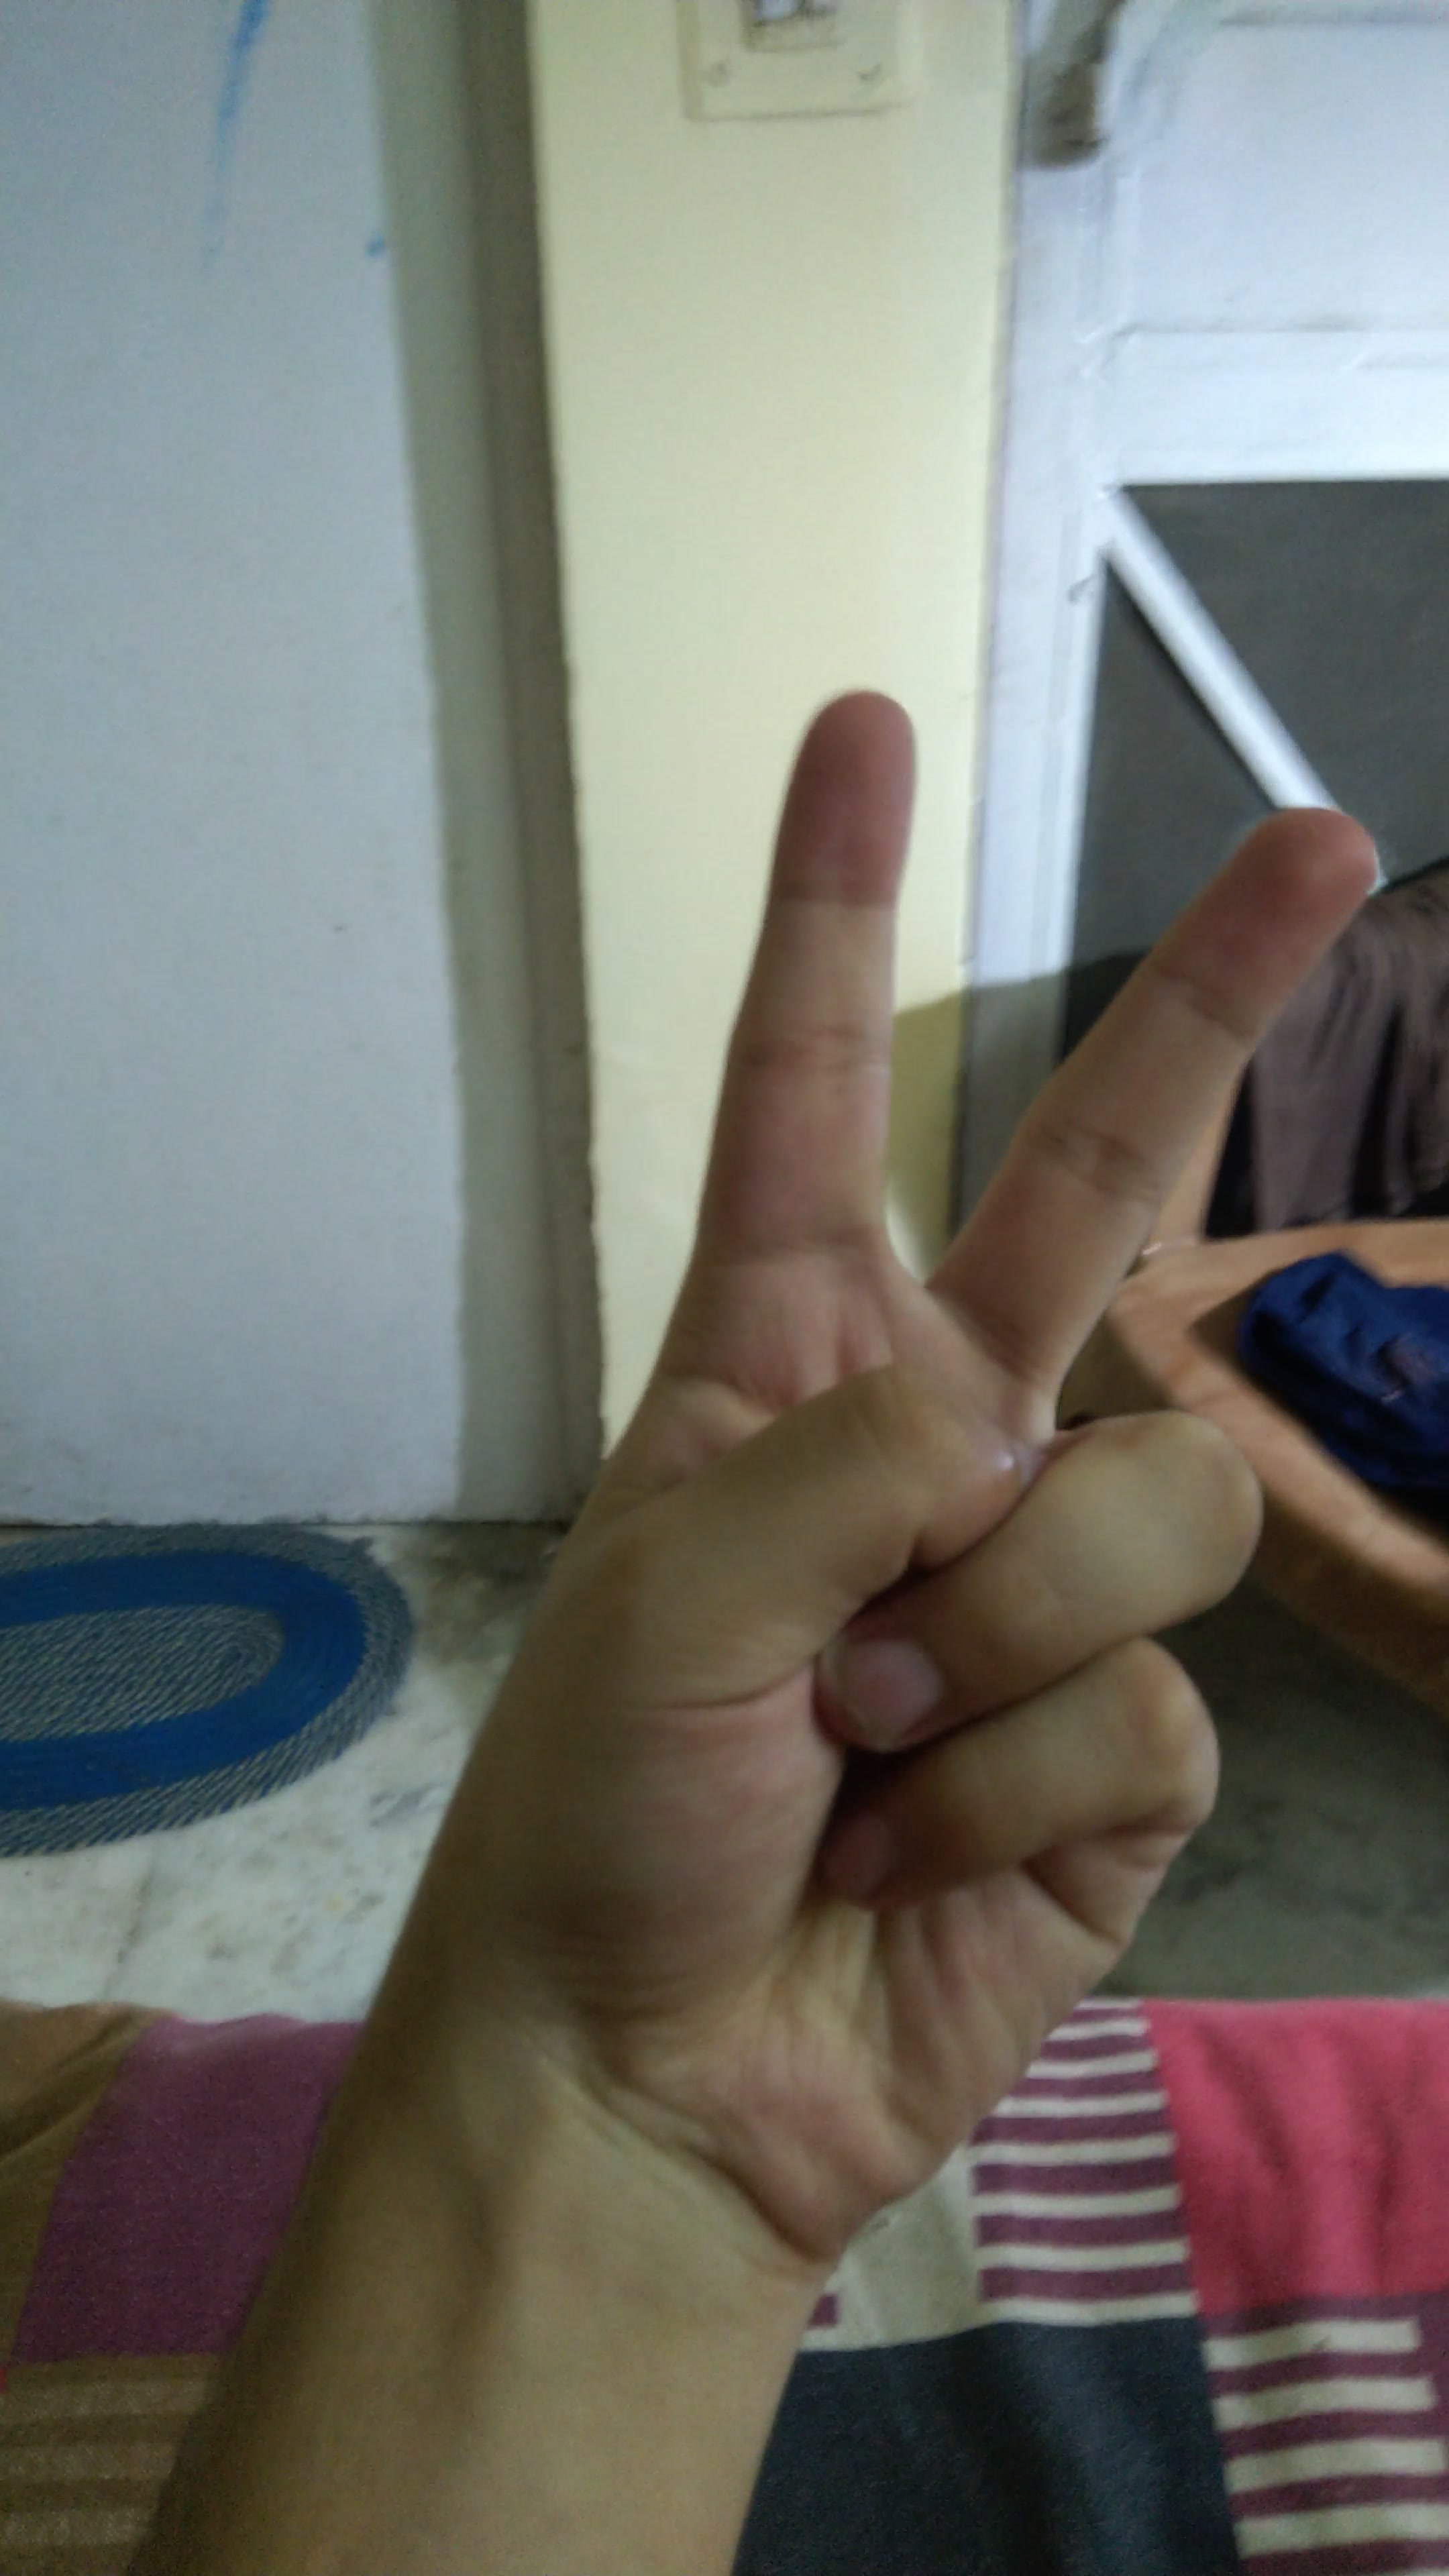hand: (340, 663, 1405, 2314)
